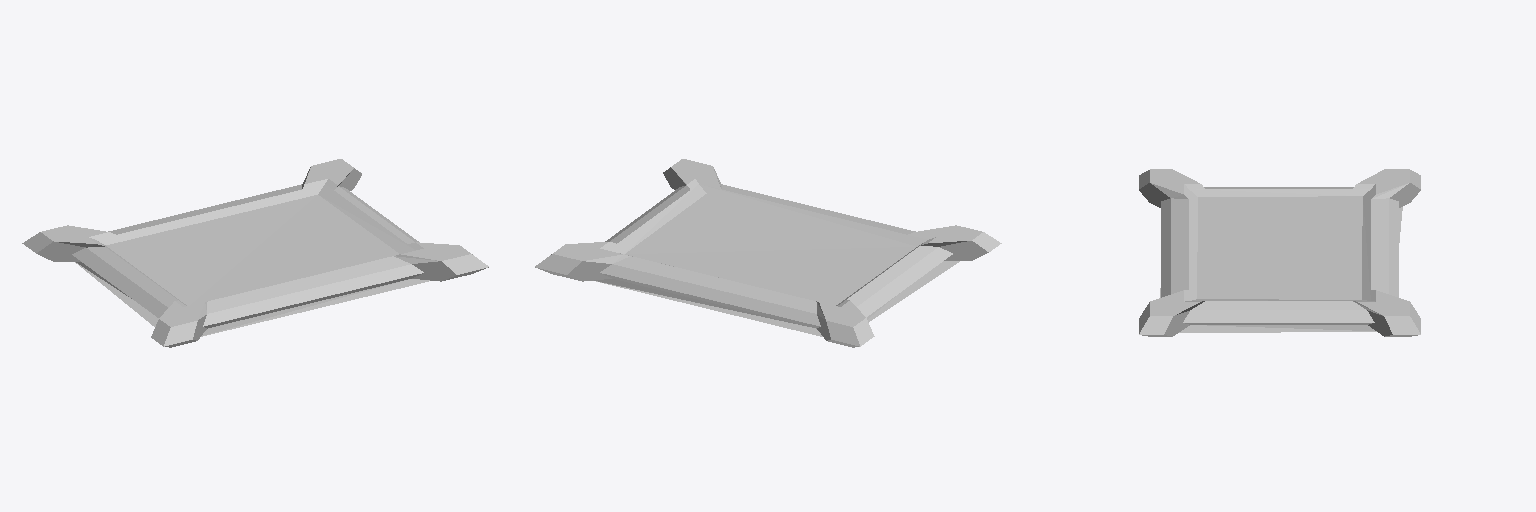
The model's file is PLATAFORMA-ARRIBA.obj.
3 renders of one model, left to right at view 1: azimuth 30°, elevation 25°; view 2: azimuth 150°, elevation 25°; view 3: azimuth 270°, elevation 25°, orthographic.
Parts seen in each view (by area): view 1: pCube1; view 2: pCube1; view 3: pCube1.
Boxes of the visible parts, <box> form: pCube1: <box>22,159,488,347</box>; pCube1: <box>535,159,1001,347</box>; pCube1: <box>1139,169,1420,336</box>.
Bounding box in the file's own units: 25.39 × 1.95 × 19.04.